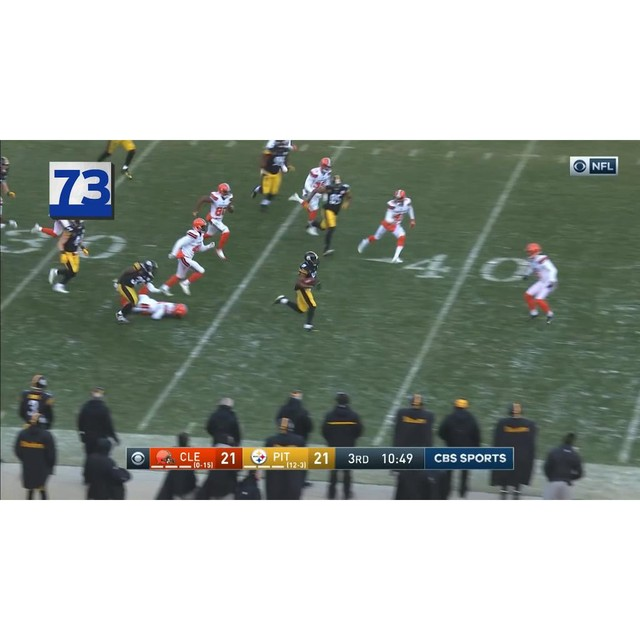american-football-player: (358, 191, 416, 264), (271, 251, 323, 331), (159, 219, 209, 296), (43, 218, 91, 295), (516, 242, 560, 325), (291, 158, 335, 234), (193, 184, 236, 260), (251, 141, 293, 213), (112, 259, 159, 323), (317, 175, 353, 256), (132, 298, 190, 321)
